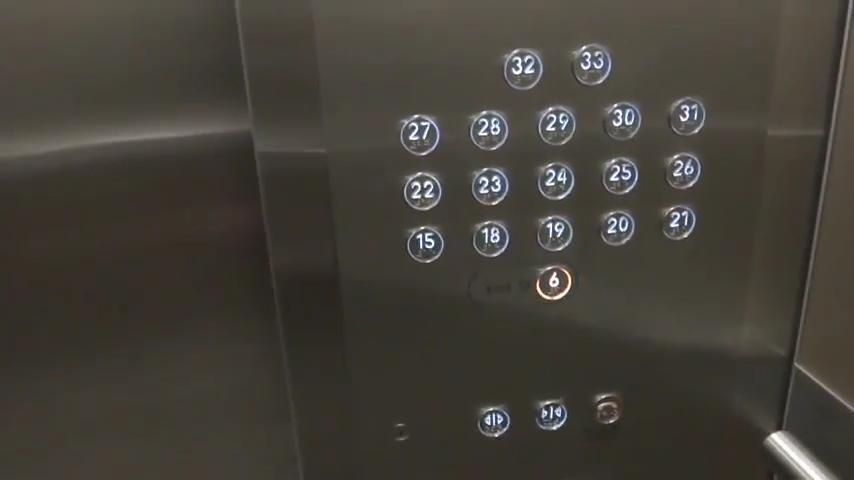15: (404, 219, 448, 265)
18: (469, 217, 511, 260)
19: (535, 208, 579, 254)
20: (596, 204, 640, 250)
21: (656, 202, 698, 244)
22: (401, 167, 445, 213)
23: (467, 163, 511, 209)
24: (534, 158, 578, 204)
25: (599, 151, 643, 197)
26: (661, 147, 705, 193)
27: (397, 110, 441, 156)
28: (467, 108, 511, 154)
29: (535, 101, 579, 147)
30: (601, 99, 645, 145)
31: (666, 92, 710, 138)
32: (501, 46, 545, 92)
33: (569, 41, 613, 87)
6: (531, 258, 575, 304)
close: (529, 393, 570, 435)
keyhole: (589, 390, 625, 429), (388, 417, 413, 444)
open: (471, 398, 515, 444)
